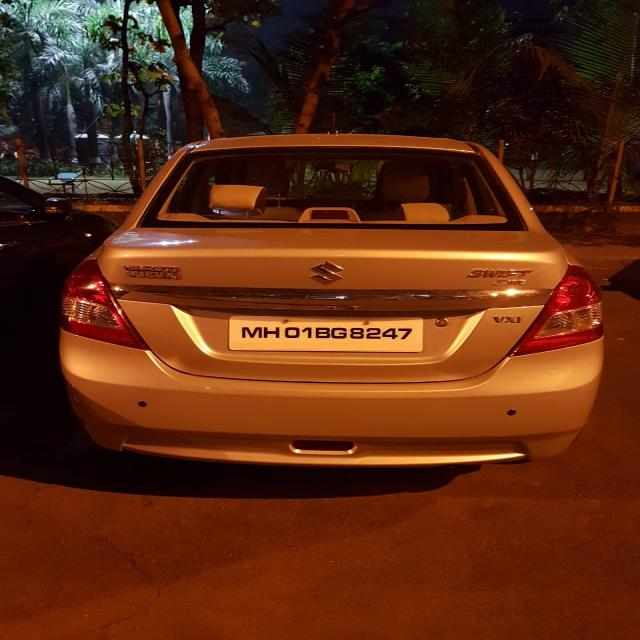Number-Plate: (226, 315, 426, 350)
